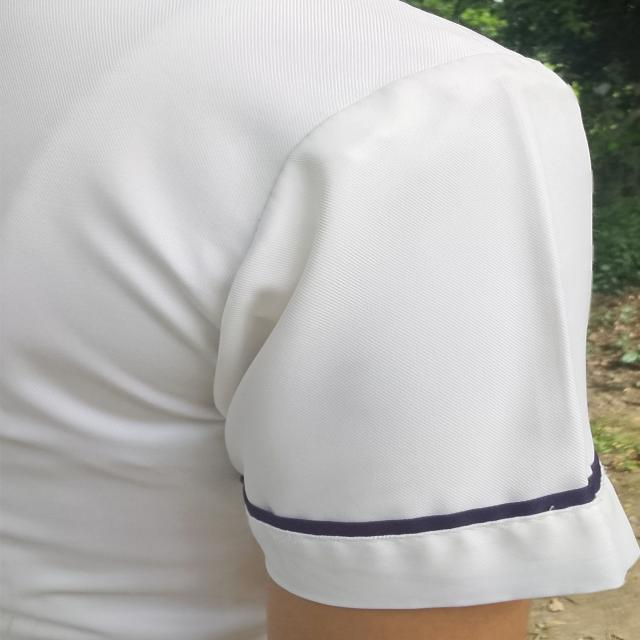education_female_uniform: (0, 2, 640, 622)
